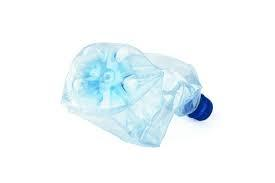plastic: (69, 44, 215, 140)
